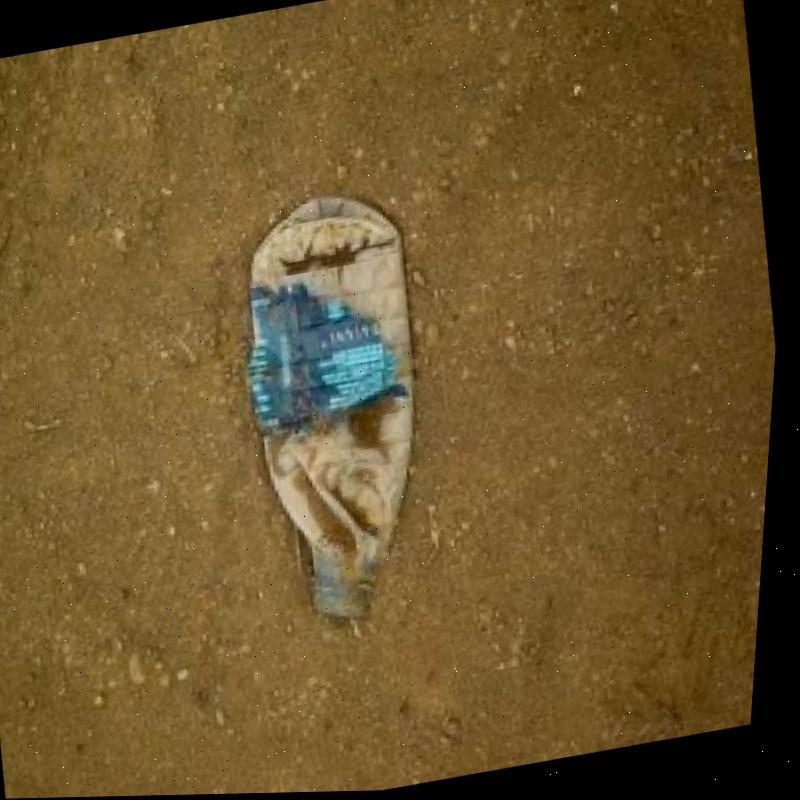botella: (215, 186, 464, 632)
